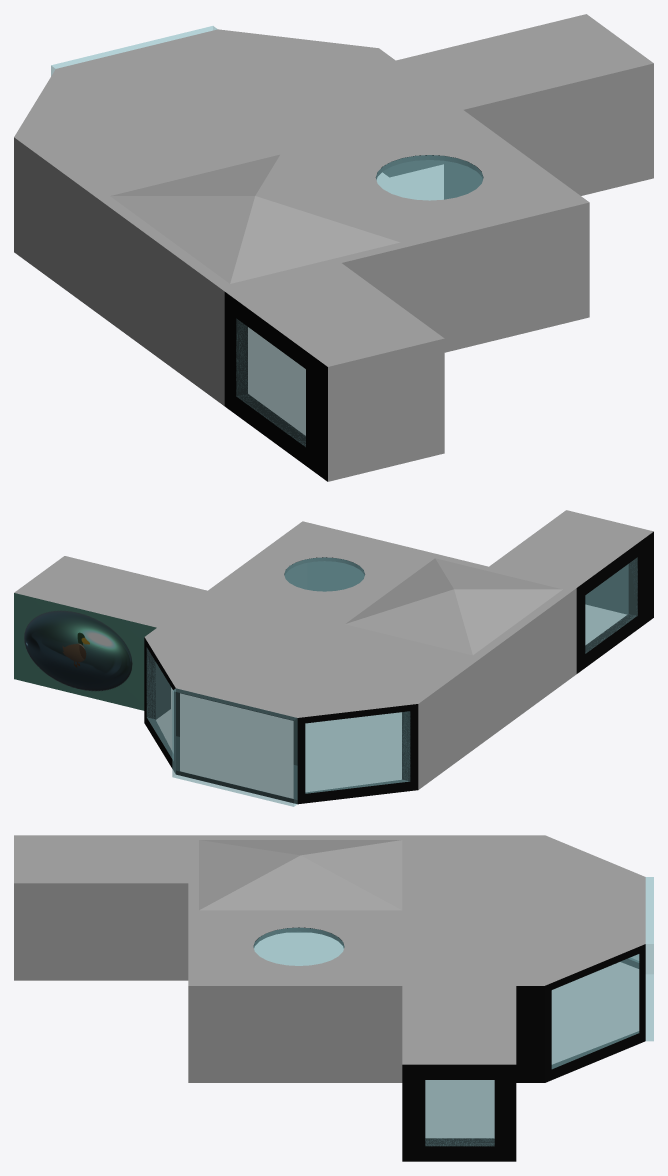
The model's file is HUBLobbyTemp.fbx.
3 renders of one model, top to bottom at view 1: azimuth 30°, elevation 25°; view 2: azimuth 150°, elevation 25°; view 3: azimuth 270°, elevation 25°, orthographic. The views are drawn at different scales.
Parts seen in each view (by area): view 1: polySurface2, window1:HUB:pCube1, pCylinder2; view 2: polySurface2, pCube4, window1:HUB:pCube1, pCylinder2; view 3: polySurface2, pCube4, window2:HUB1:pCube1, pCylinder2.
Part boxes in pixels (x1=…): polySurface2: x1=14, y1=14, x2=653, y2=481; window1:HUB:pCube1: x1=236, y1=319, x2=305, y2=446; pCylinder2: x1=376, y1=155, x2=483, y2=200; polySurface2: x1=14, y1=510, x2=653, y2=806; pCube4: x1=146, y1=648, x2=410, y2=793; window1:HUB:pCube1: x1=585, y1=557, x2=637, y2=653; pCylinder2: x1=284, y1=557, x2=364, y2=591; polySurface2: x1=14, y1=835, x2=653, y2=1161; pCube4: x1=551, y1=954, x2=639, y2=1068; window2:HUB1:pCube1: x1=425, y1=1080, x2=494, y2=1146; pCylinder2: x1=253, y1=927, x2=344, y2=965.
Size of the model in its own units: 2125 by 506 by 2506.
